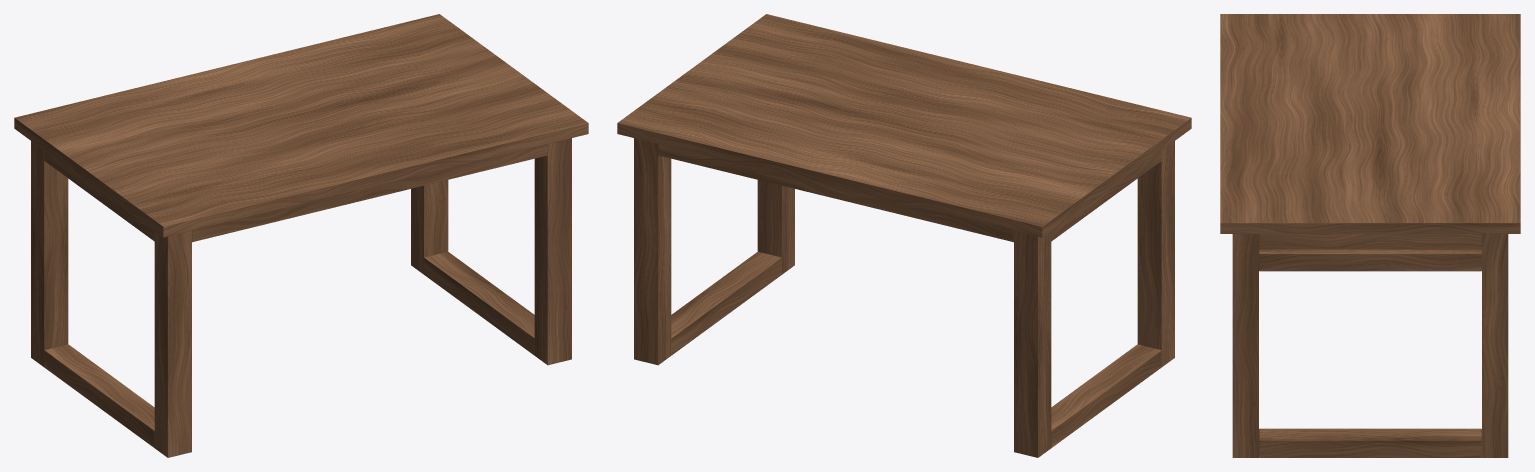
File: oak_brown_table.glb
The picture shows the model from 3 angles, left to right: view 1: azimuth 30°, elevation 25°; view 2: azimuth 150°, elevation 25°; view 3: azimuth 270°, elevation 25°; orthographic projection.
Parts seen in each view (by area): view 1: Tabletop_140x85cm, Left_front_post, Right_front_post, Left_rear_post, Front_long_apron, Right_lower_side_rail, Left_lower_side_rail, Right_rear_post, Left_upper_side_rail; view 2: Tabletop_140x85cm, Left_rear_post, Right_rear_post, Left_front_post, Rear_long_apron, Right_lower_side_rail, Left_lower_side_rail, Right_front_post, Left_upper_side_rail; view 3: Tabletop_140x85cm, Right_lower_side_rail, Right_front_post, Right_rear_post, Left_lower_side_rail, Right_upper_side_rail.
Part boxes in pixels (x1,y1,x2,y2): Tabletop_140x85cm: (14,14,588,237); Left_front_post: (154,231,191,457); Right_front_post: (534,138,571,365); Left_rear_post: (31,141,68,366); Front_long_apron: (192,144,547,242); Right_lower_side_rail: (424,251,534,355); Left_lower_side_rail: (44,344,154,447); Right_rear_post: (411,180,448,274); Left_upper_side_rail: (44,151,154,241); Tabletop_140x85cm: (617,14,1191,237); Left_rear_post: (1014,231,1051,457); Right_rear_post: (634,138,671,365); Left_front_post: (1137,141,1174,366); Rear_long_apron: (658,144,1013,242); Right_lower_side_rail: (671,251,781,355); Left_lower_side_rail: (1051,344,1161,447); Right_front_post: (757,180,794,274); Left_upper_side_rail: (1051,151,1161,241); Tabletop_140x85cm: (1220,14,1520,233); Right_lower_side_rail: (1259,428,1481,457); Right_front_post: (1232,234,1258,457); Right_rear_post: (1482,234,1508,457); Left_lower_side_rail: (1259,249,1481,271); Right_upper_side_rail: (1259,234,1481,249).
Size of the model in its own units: 1.4 by 0.75 by 0.85.
1 material, 1 textured.
